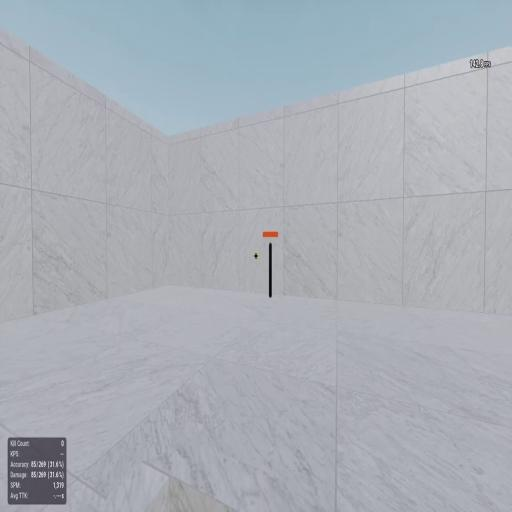Crosshair: (254, 252, 258, 261)
Target: (268, 244, 272, 297)
